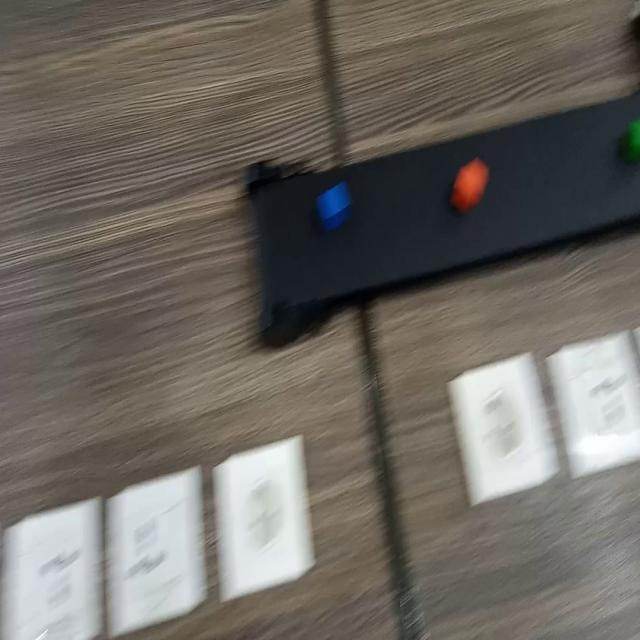cube: (317, 178, 363, 240)
